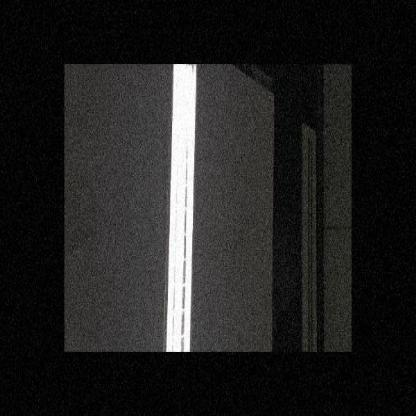light_on: (154, 64, 207, 352)
